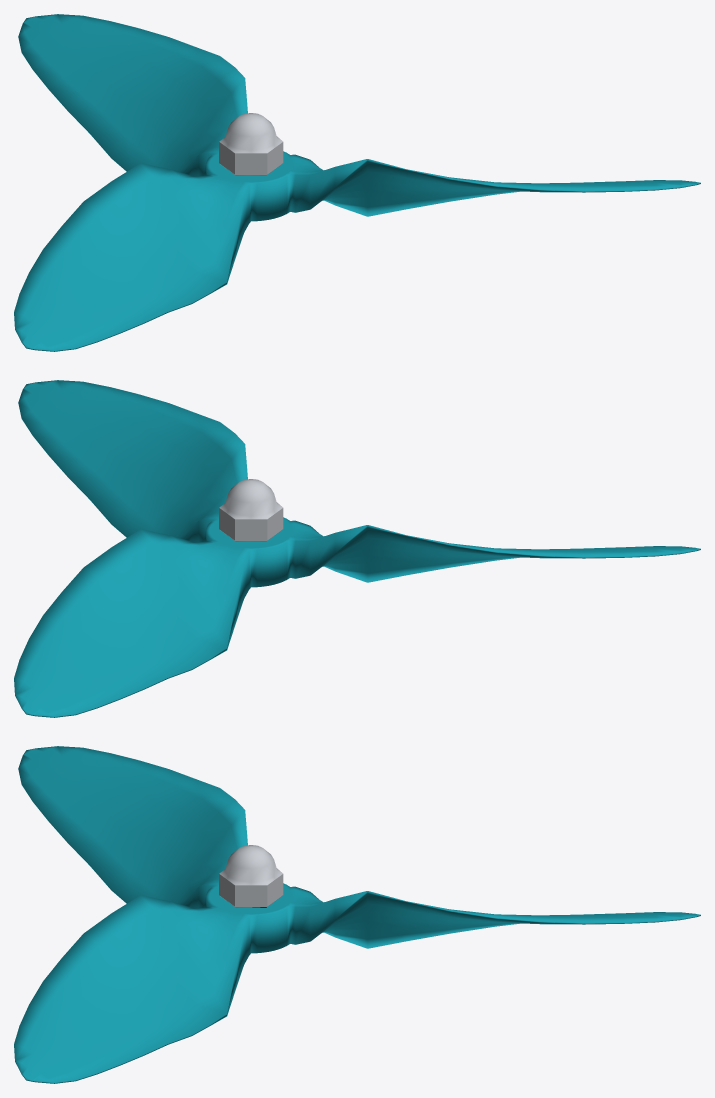
File: Gemfan_51466.fbx
3 views of the same model, one above another, from view 1: azimuth 30°, elevation 25°; view 2: azimuth 150°, elevation 25°; view 3: azimuth 270°, elevation 25° (orthographic).
Visible parts, largest first — view 1: R2_PROP_Gemfan_51466, R2_NUT_Gemfan_51466; view 2: R2_PROP_Gemfan_51466, R2_NUT_Gemfan_51466; view 3: R2_PROP_Gemfan_51466, R2_NUT_Gemfan_51466.
Part boxes in pixels (x1=…): R2_PROP_Gemfan_51466: x1=14, y1=14, x2=700, y2=351; R2_NUT_Gemfan_51466: x1=219, y1=113, x2=283, y2=175; R2_PROP_Gemfan_51466: x1=14, y1=380, x2=700, y2=717; R2_NUT_Gemfan_51466: x1=219, y1=479, x2=283, y2=541; R2_PROP_Gemfan_51466: x1=14, y1=746, x2=700, y2=1083; R2_NUT_Gemfan_51466: x1=219, y1=845, x2=283, y2=907.
Size of the model in its own units: 0.1122 by 0.0188 by 0.0989.
Materials: 1 (1 with a texture image).
